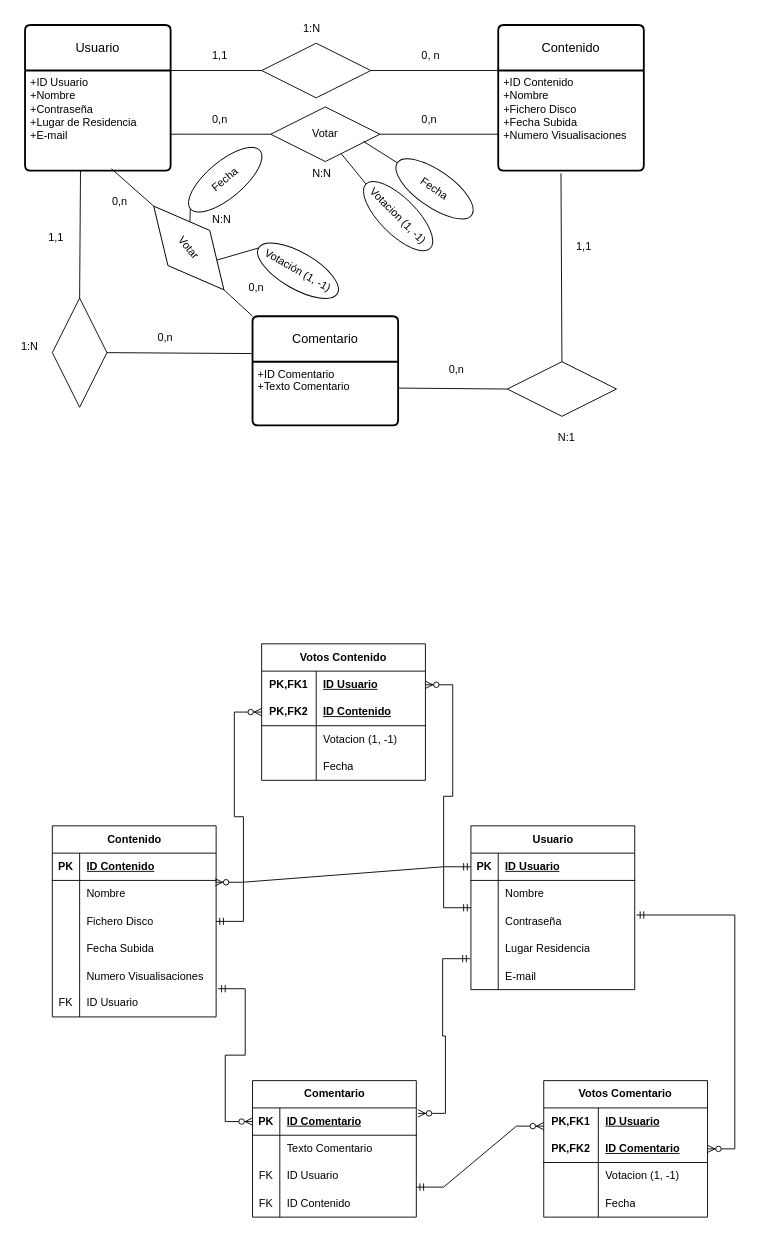
The diagram is 759 pixels wide and 1233 high, and some of its shapes have lost their labels. Each missing label, with the centre of its shape:
"Comentar" goes at (79,352).
"Subir" goes at (316,70).
"Tener" goes at (561,388).
